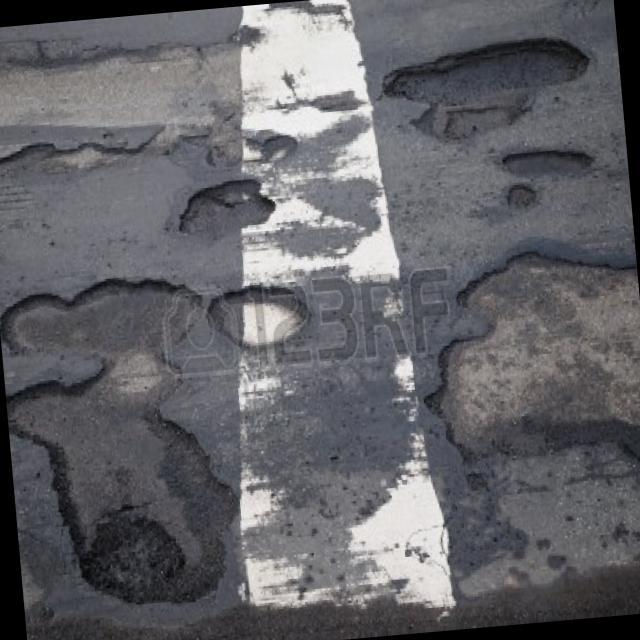Pothole: (64, 468, 192, 617), (374, 31, 594, 114), (213, 276, 319, 356), (178, 170, 276, 244), (492, 137, 592, 196)
